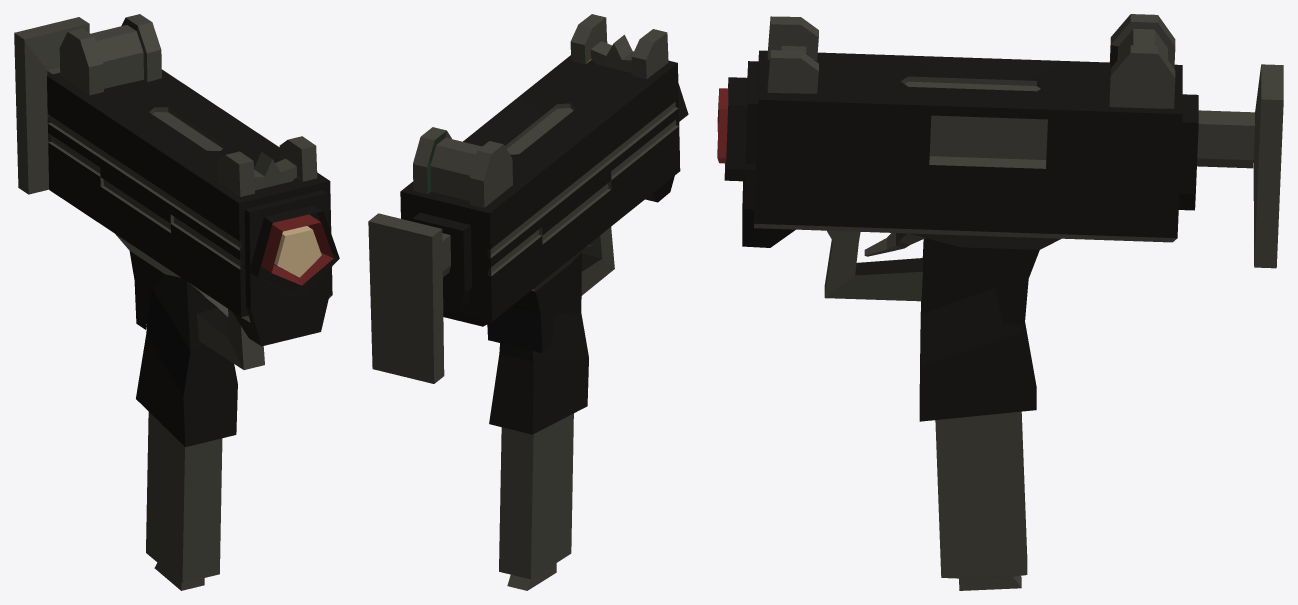
File: uzi.fbx
3 views of the same model, side by side, from view 1: azimuth 30°, elevation 25°; view 2: azimuth 150°, elevation 25°; view 3: azimuth 270°, elevation 25° (orthographic). The views are drawn at different scales.
Parts seen in each view (by area): view 1: uzi; view 2: uzi; view 3: uzi.
Part boxes in pixels (bbox=[...]): uzi: bbox=[14, 14, 339, 590]; uzi: bbox=[368, 14, 688, 590]; uzi: bbox=[717, 14, 1283, 590].
Bounding box in the file's own units: 22.16 × 116 × 108.
